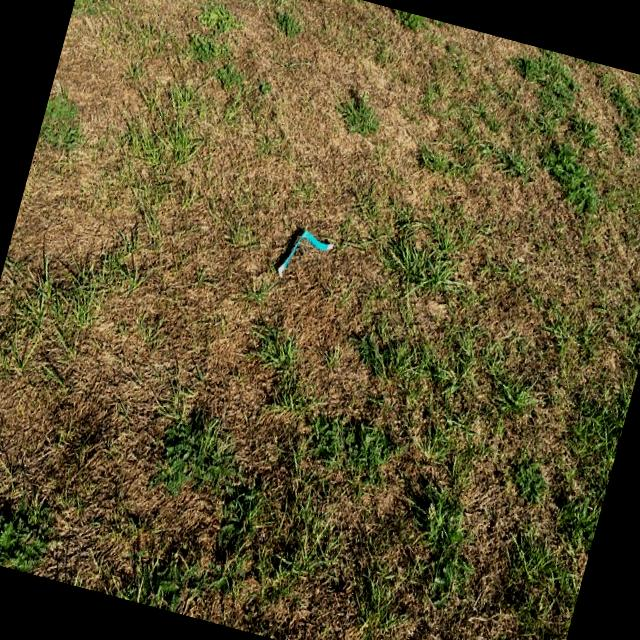Trash: (274, 220, 340, 292)
